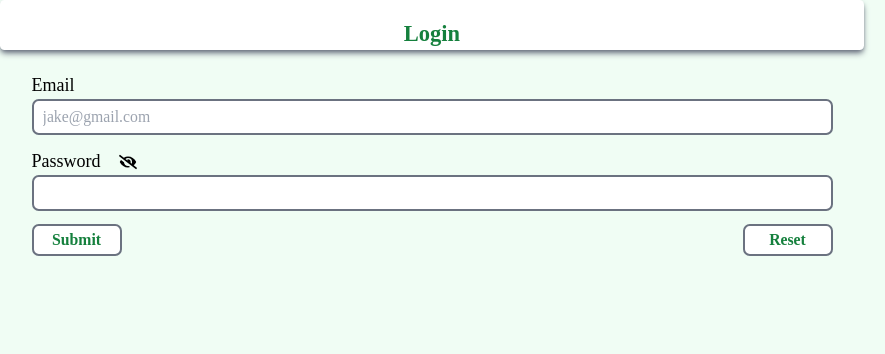
it: login form tests › form interactions › inputs are registered correctly
Note: Every field is filled correctly
Type "aaa@aaa" into the field labelled "Email" at (432, 117), box x1=32 y1=99 x2=832 y2=134
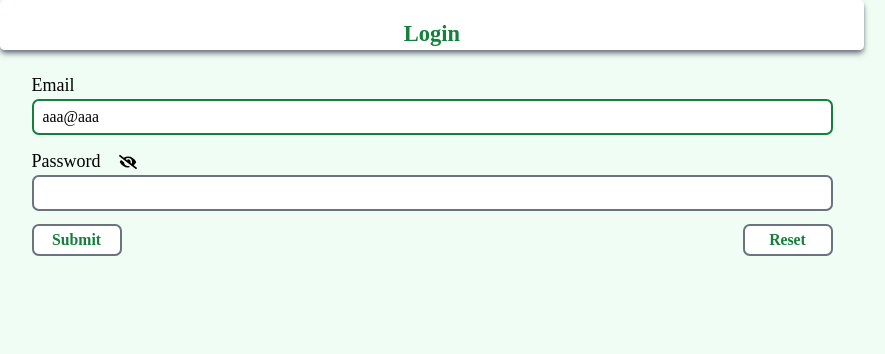
Type "aaaaa" into the password field labelled "Password" at (432, 193), box x1=32 y1=175 x2=832 y2=210
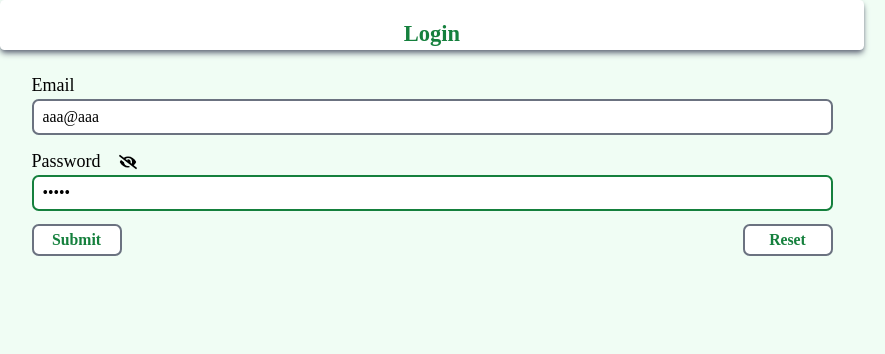
Note: Show error list on submit button press
Click the button "Submit" at (76, 240), box x1=32 y1=224 x2=122 y2=256
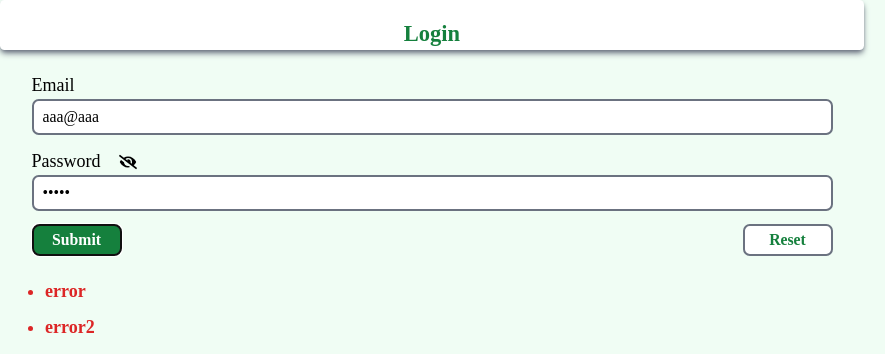
Expected: the list named "errorlist" is shown, x1=45 y1=281 x2=95 y2=337
Note: Reset both error list and input fields on reset button press
Click the button "Reset" at (788, 240), box x1=742 y1=224 x2=832 y2=256
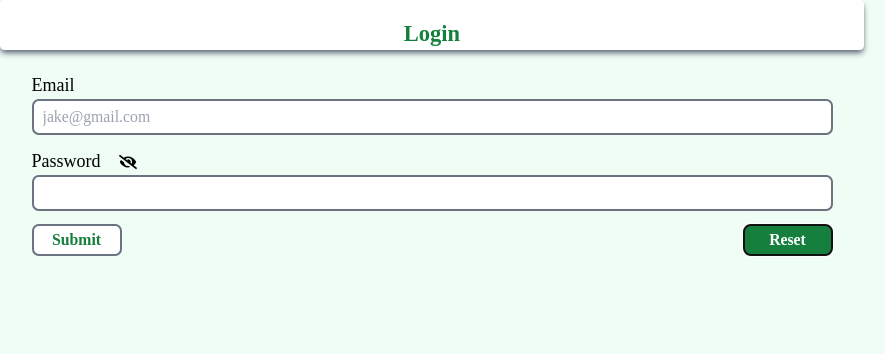
Expected: the field labelled "Email" is empty, x1=32 y1=99 x2=832 y2=134
Expected: the password field labelled "Password" is empty, x1=32 y1=175 x2=832 y2=210
